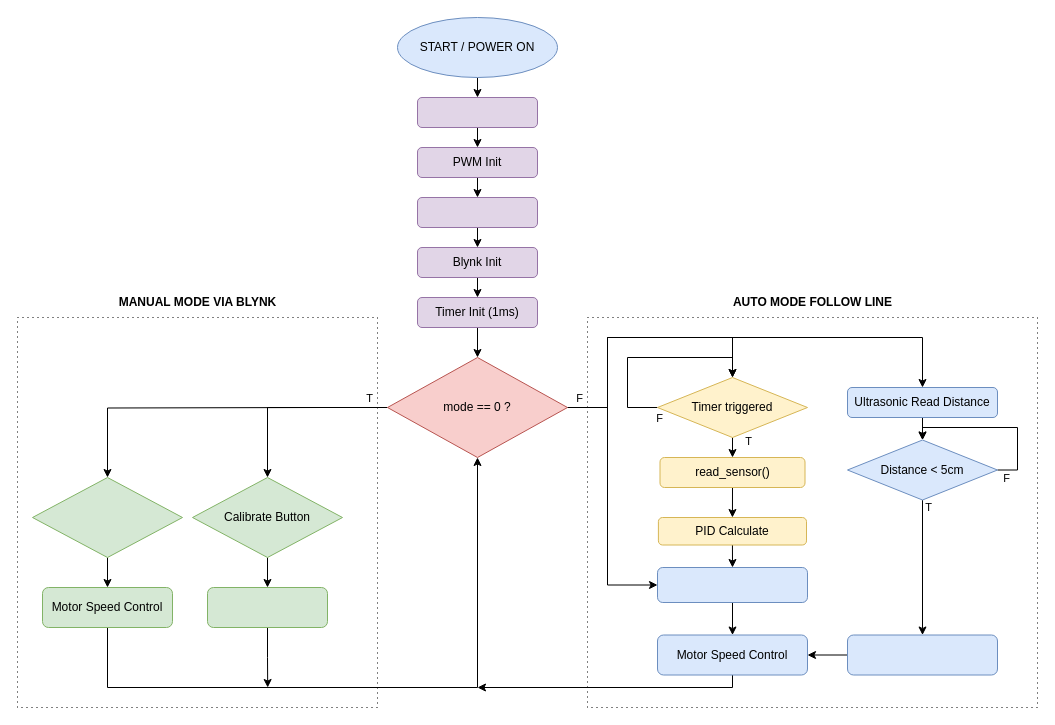
This 1055x725 diagram has some shape labels left out. The centre of each missing label's shape, as x and y in pixels:
Blynk Joystick: the point at 107,517
EEPROM Read: the point at 477,212
GPIO Init: the point at 477,112
Object Avoidance: the point at 922,654
Pattern FSM: the point at 732,584
Update Line Value: the point at 267,607
